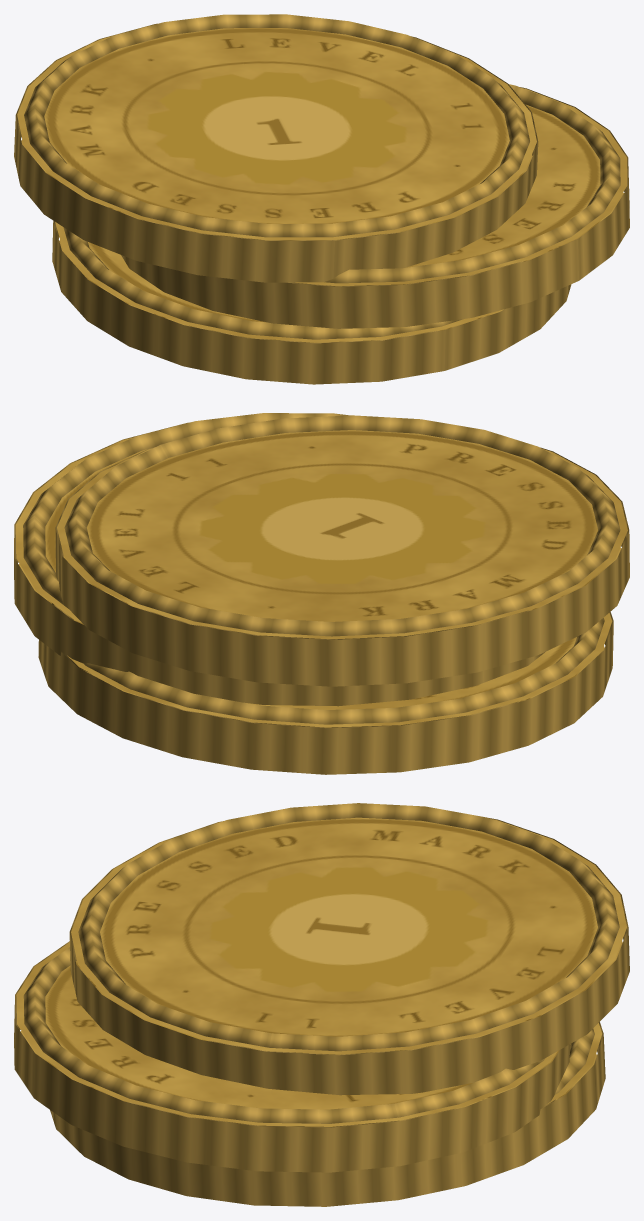
File: presses.obj
3 renders of one model, top to bottom at view 1: azimuth 30°, elevation 25°; view 2: azimuth 150°, elevation 25°; view 3: azimuth 270°, elevation 25°, orthographic. The views are drawn at different scales.
Parts seen in each view (by area): view 1: presses_0_surface; view 2: presses_0_surface; view 3: presses_0_surface.
Boxes of the visible parts, <box> form: presses_0_surface: <box>14,14,629,384</box>; presses_0_surface: <box>14,413,629,774</box>; presses_0_surface: <box>14,803,629,1206</box>.
Size of the model in its own units: 0.1557 by 0.0469 by 0.1497.
Materials: 1 (1 with a texture image).
